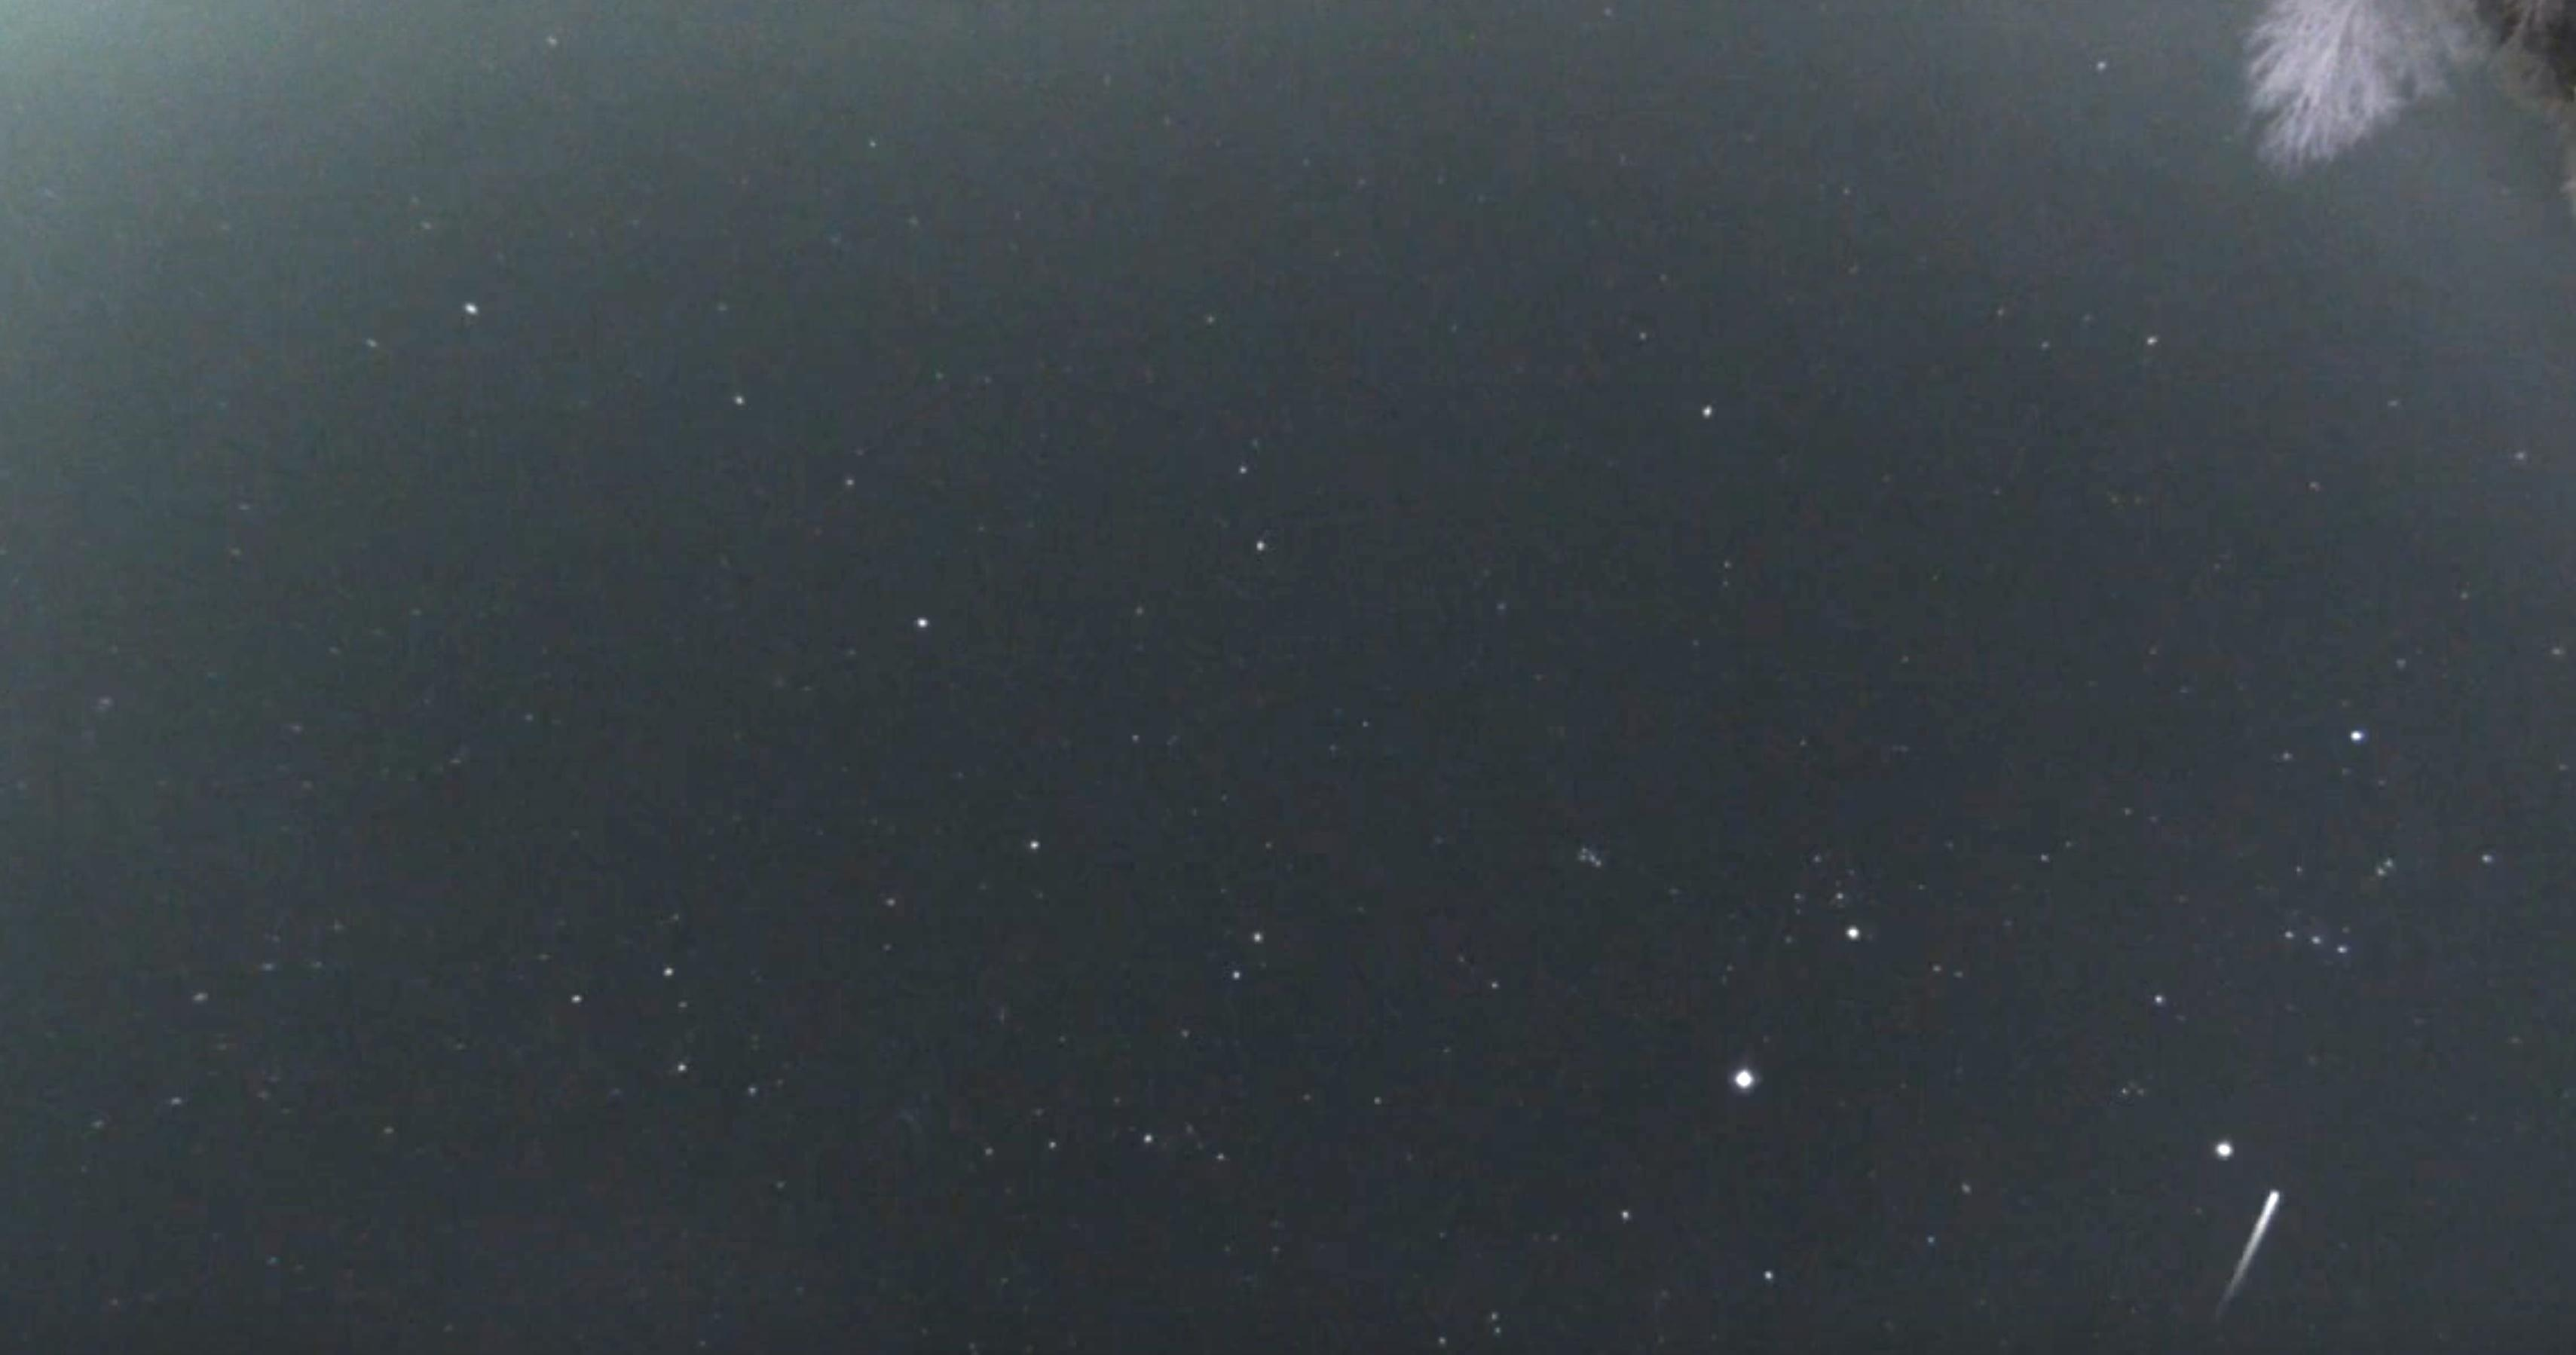meteorite: (2184, 1144, 2327, 1355)
